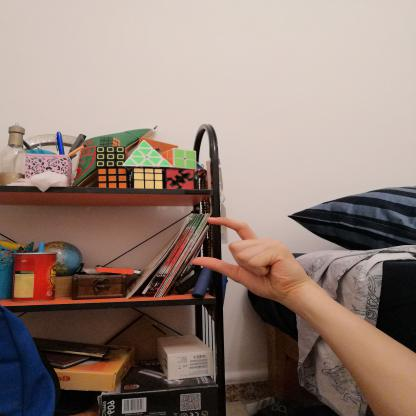DELL: (175, 207, 308, 305)
